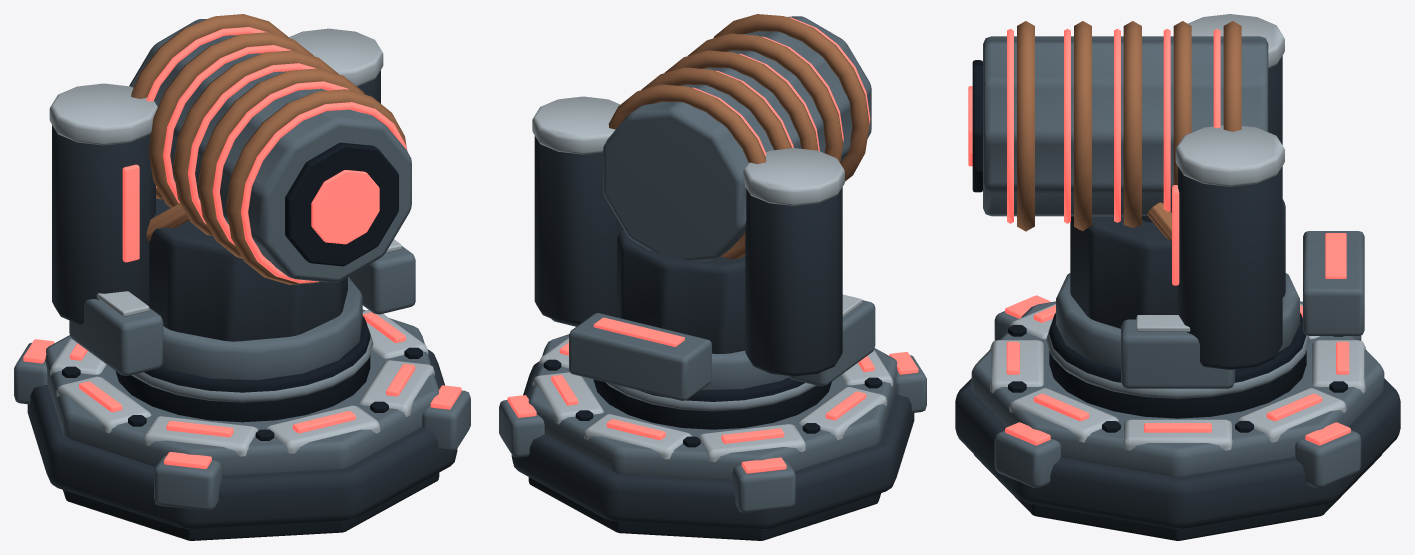
Rendered from ember_coil.fbx.
3 renders of one model, left to right at view 1: azimuth 30°, elevation 25°; view 2: azimuth 150°, elevation 25°; view 3: azimuth 270°, elevation 25°, orthographic. The views are drawn at different scales.
Visible parts, largest first — view 1: Base_Geometry, Recoil_Geometry, Yaw_Geometry, Tier3_Cooling_Geometry, Apex_sector_0_Geometry, Apex_sector_3_Geometry, Apex_sector_1_Geometry, Tier2_Light_01_Geometry, Tier3_Light_02_Geometry, Tier3_Light_06_Geometry; view 2: Yaw_Geometry, Base_Geometry, Recoil_Geometry, Tier2_Capacitor_Geometry, Apex_sector_1_Geometry, Tier3_Cooling_Geometry, Apex_sector_2_Geometry, Apex_sector_0_Geometry, Tier3_Light_03_Geometry, Tier3_Light_02_Geometry; view 3: Base_Geometry, Recoil_Geometry, Yaw_Geometry, Tier2_Capacitor_Geometry, Tier3_Cooling_Geometry, Apex_sector_2_Geometry, Apex_sector_3_Geometry, Apex_sector_0_Geometry, Tier3_Light_06_Geometry, Tier3_Light_05_Geometry, Tier2_Light_07_Geometry.
Part boxes in pixels (x1,y1,x2,y2): Base_Geometry: (27,309,457,540); Recoil_Geometry: (129,14,411,284); Yaw_Geometry: (49,28,383,380); Tier3_Cooling_Geometry: (69,239,415,375); Apex_sector_0_Geometry: (154,452,221,511); Apex_sector_3_Geometry: (422,385,470,451); Apex_sector_1_Geometry: (14,339,54,404); Tier2_Light_01_Geometry: (166,420,233,437); Tier3_Light_02_Geometry: (79,381,122,412); Tier3_Light_06_Geometry: (362,312,405,342); Yaw_Geometry: (532,96,844,390); Base_Geometry: (511,334,914,540); Recoil_Geometry: (603,14,871,261); Tier2_Capacitor_Geometry: (569,313,711,400); Apex_sector_1_Geometry: (732,457,795,512); Tier3_Cooling_Geometry: (551,294,875,386); Apex_sector_2_Geometry: (499,395,544,457); Apex_sector_0_Geometry: (889,352,926,412); Tier3_Light_03_Geometry: (721,428,784,443); Tier3_Light_02_Geometry: (825,391,866,420); Base_Geometry: (955,301,1400,540); Recoil_Geometry: (968,21,1268,231); Yaw_Geometry: (1056,14,1299,369); Tier2_Capacitor_Geometry: (1303,231,1364,335); Tier3_Cooling_Geometry: (1121,315,1234,388); Apex_sector_2_Geometry: (1295,422,1361,488); Apex_sector_3_Geometry: (994,422,1060,488); Apex_sector_0_Geometry: (994,295,1050,340); Tier3_Light_06_Geometry: (1144,423,1211,432); Tier3_Light_05_Geometry: (1266,393,1322,421); Tier2_Light_07_Geometry: (1033,393,1089,421).
Bounding box in the file's own units: 1.88 × 1.98 × 1.88.
